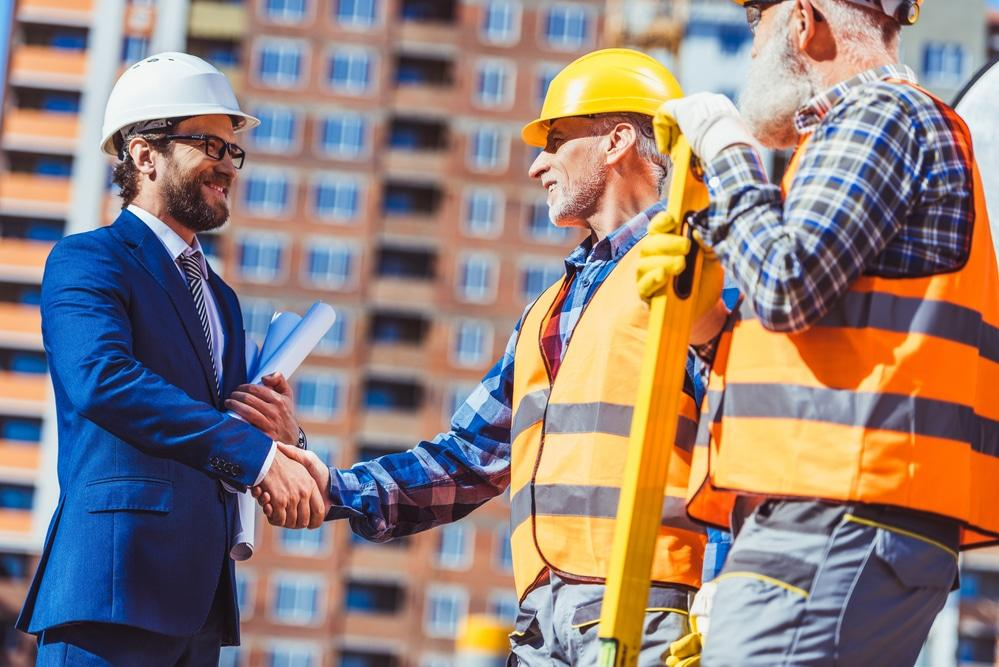helmet: (518, 48, 690, 153), (100, 53, 263, 158)
